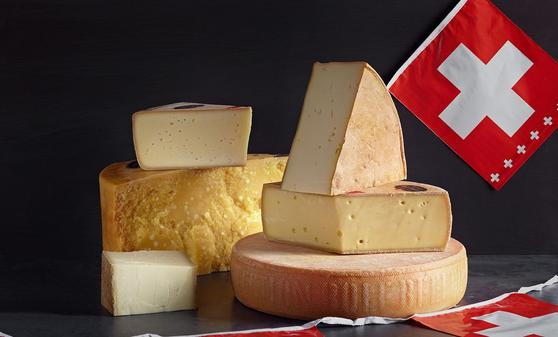cheese: (280, 61, 406, 195), (98, 235, 198, 321), (129, 101, 251, 171)
